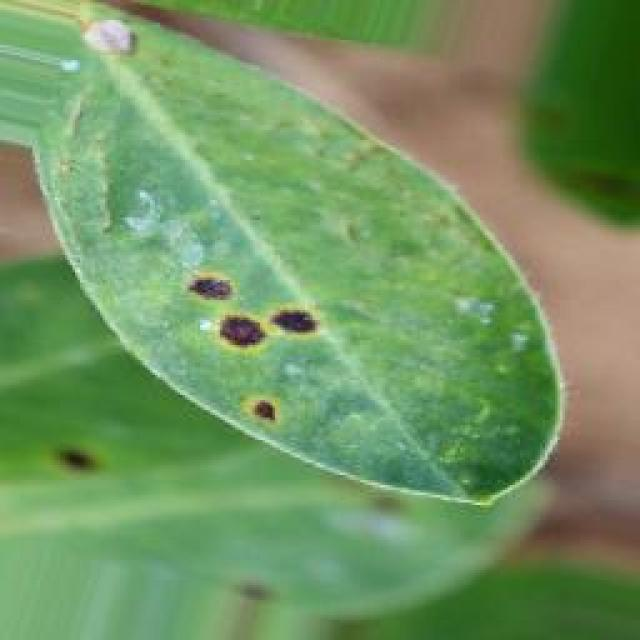Sigatoka: (173, 224, 322, 438), (192, 524, 303, 635), (49, 412, 107, 489)
